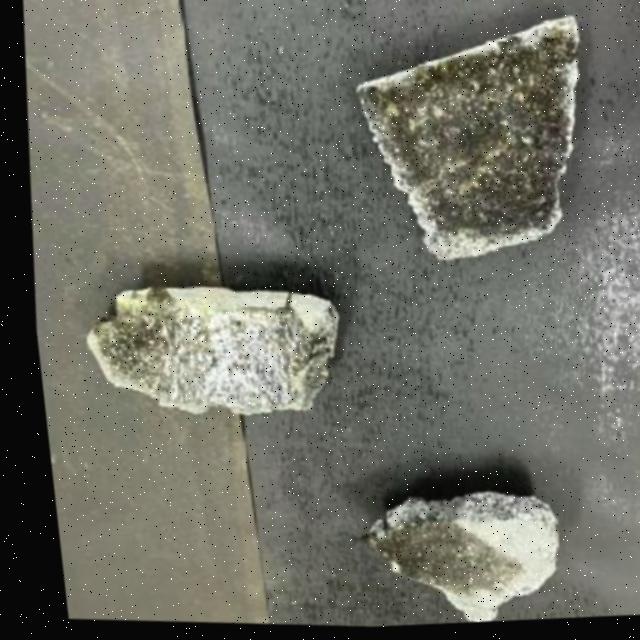Road Debris: (338, 2, 597, 266), (80, 284, 328, 428), (351, 498, 517, 602)
